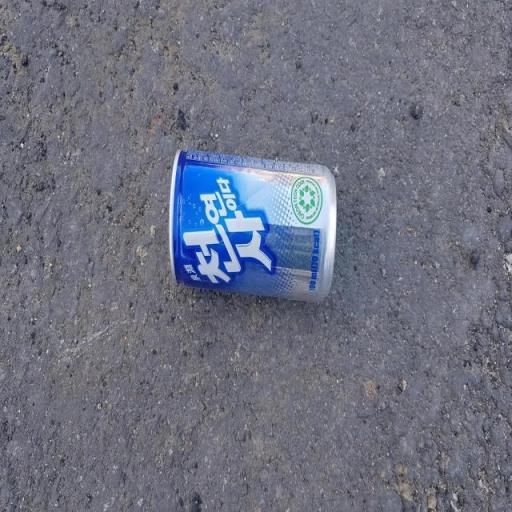metal: (150, 121, 355, 331)
